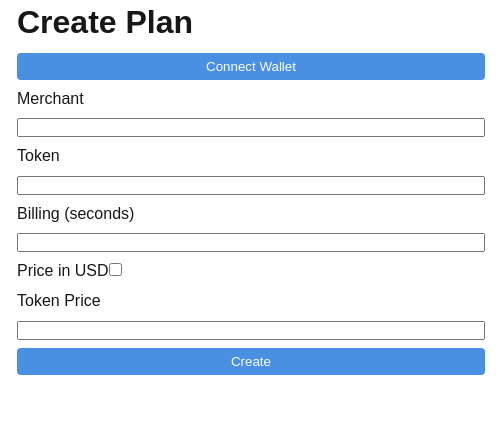
Scenario: shows validation errors
Click the button "Create": (251, 361) top-left (17, 348), bottom-right (485, 375)
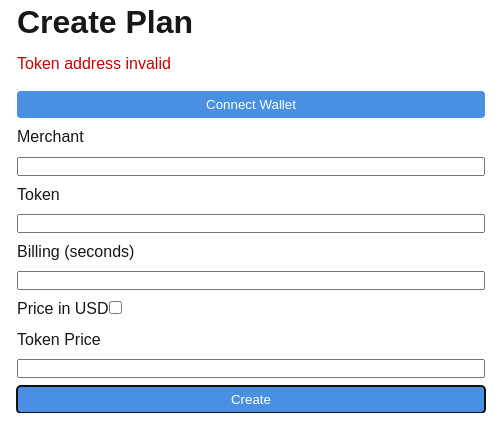
Expected: the text "Token address invalid" is shown, top-left (17, 55), bottom-right (171, 72)
